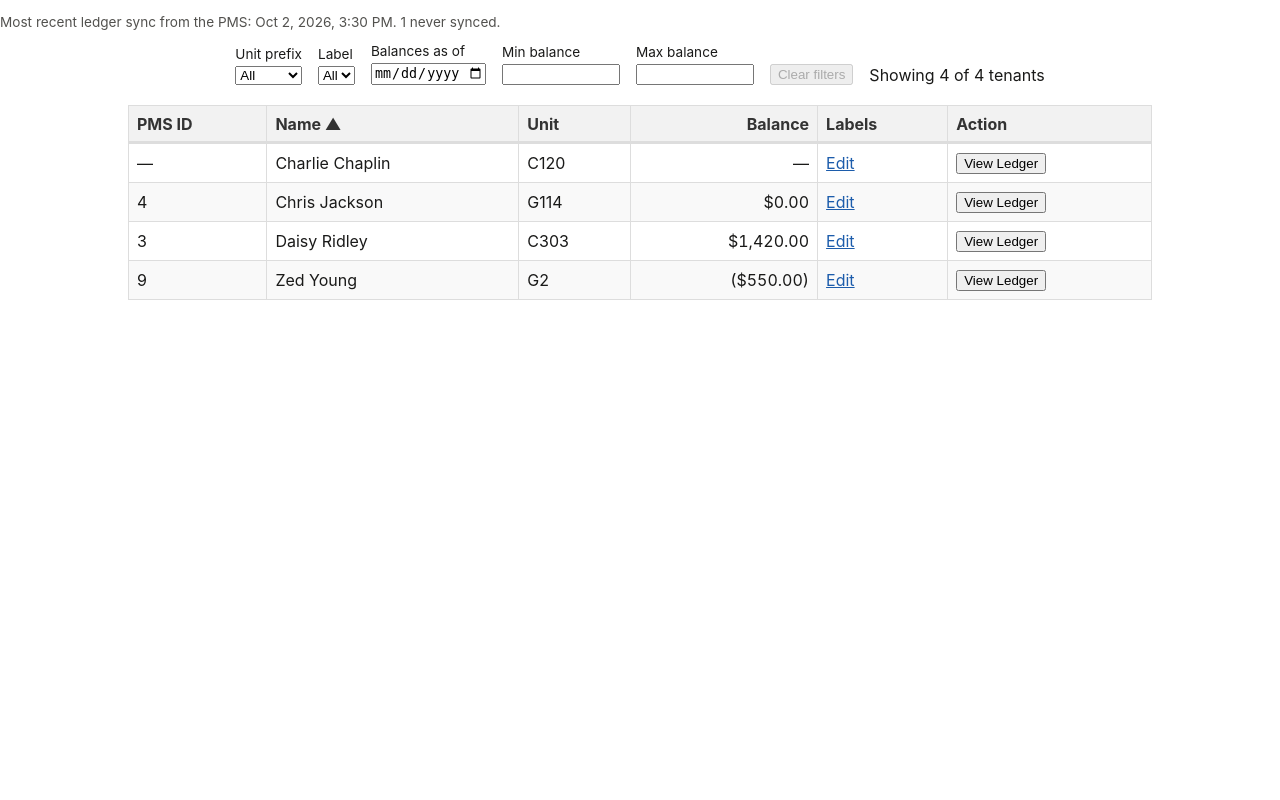
View Ledger shows that tenant's transactions, running balance and totals
What coordinates should you click on to do the following:
click the button with aria-label "View ledger for Daisy Ridley"
I would click on:
 (1001, 241)
Its box is [956,230,1046,252].
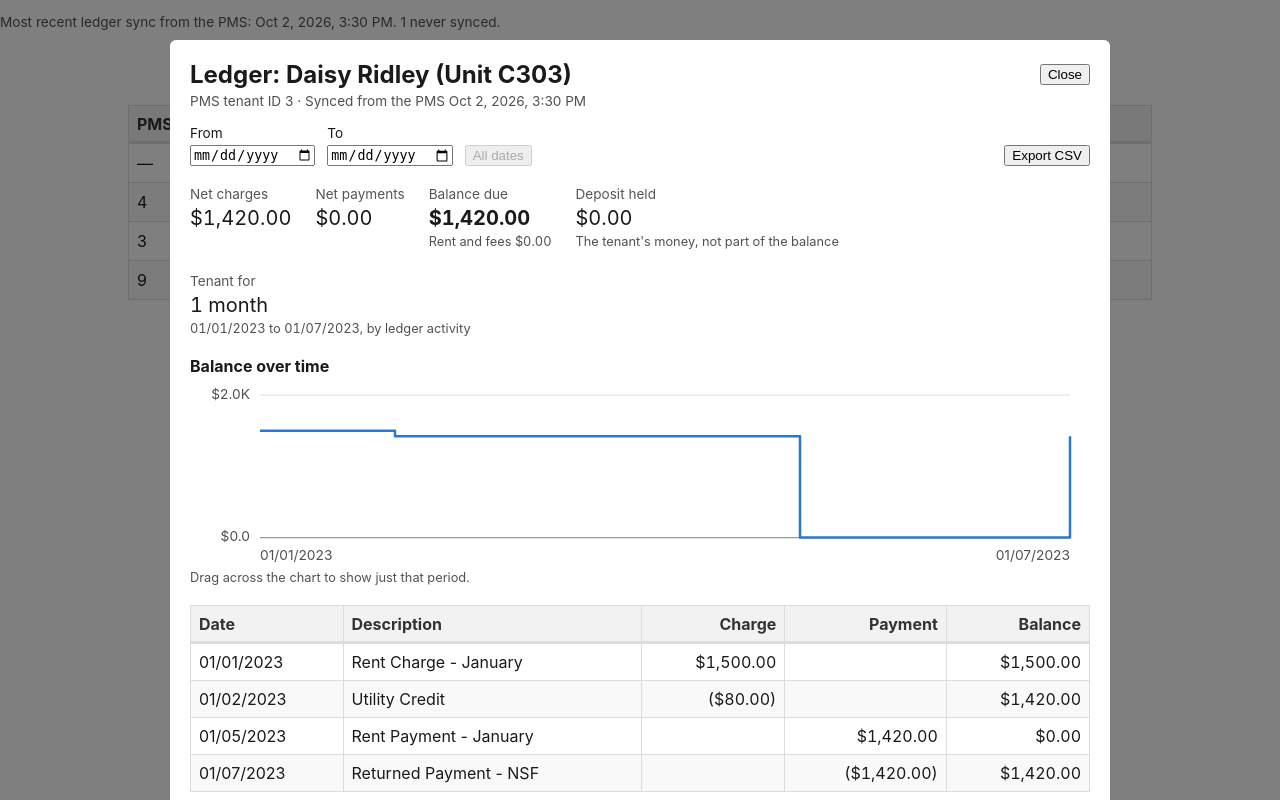
Expected: the text "$1,420.00" below "Net charges" is shown, [190,206,291,230]
Expected: the text "$0.00" below "Net payments" is shown, [315,206,372,230]
Expected: the text "1 month" is shown, [190,293,268,317]
